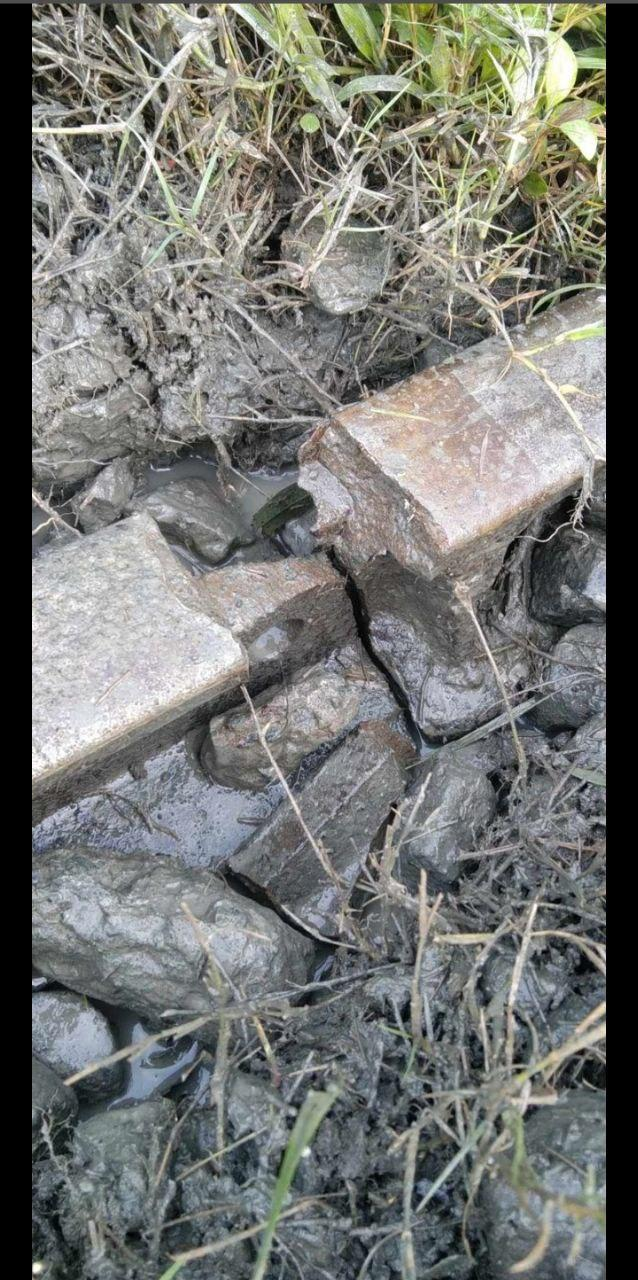railway-gap: (97, 385, 528, 830)
